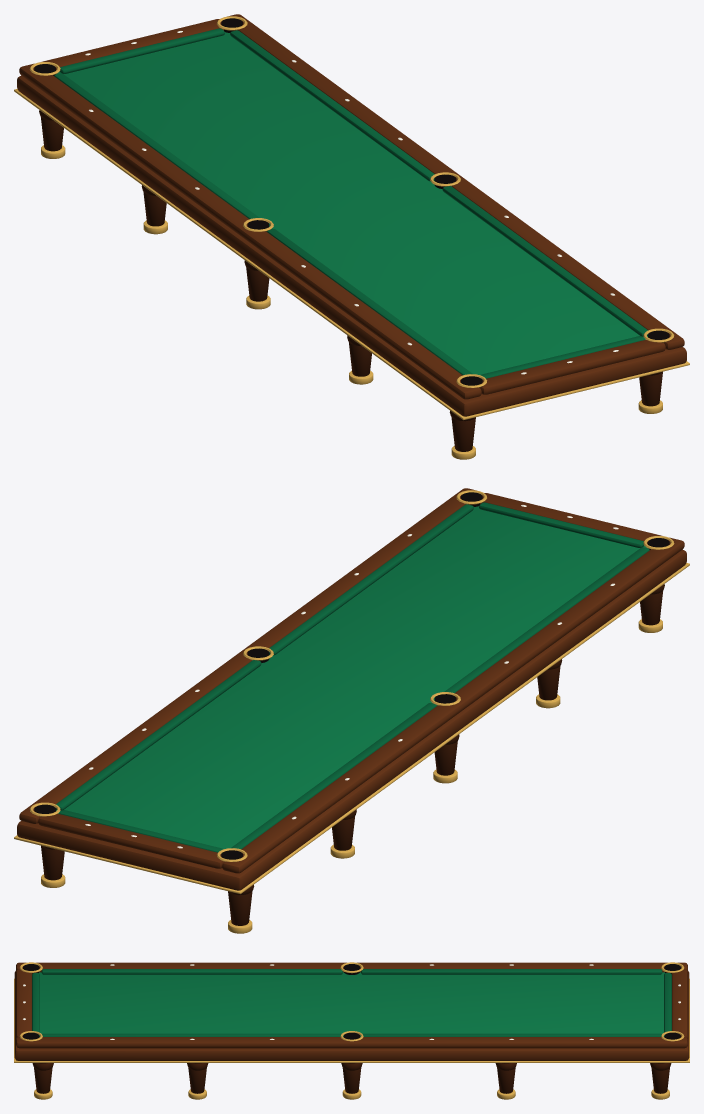
File: PlazaTable8.fbx
The picture shows the model from 3 angles, top to bottom: view 1: azimuth 30°, elevation 25°; view 2: azimuth 150°, elevation 25°; view 3: azimuth 270°, elevation 25°; orthographic projection. The views are drawn at different scales.
Visible parts, largest first — view 1: PlazaTable8; view 2: PlazaTable8; view 3: PlazaTable8.
Part boxes in pixels (<box>): PlazaTable8: <box>14,14,689,459</box>; PlazaTable8: <box>14,488,689,933</box>; PlazaTable8: <box>14,962,689,1099</box>.
Bounding box in the file's own units: 962 × 326 × 3302.
